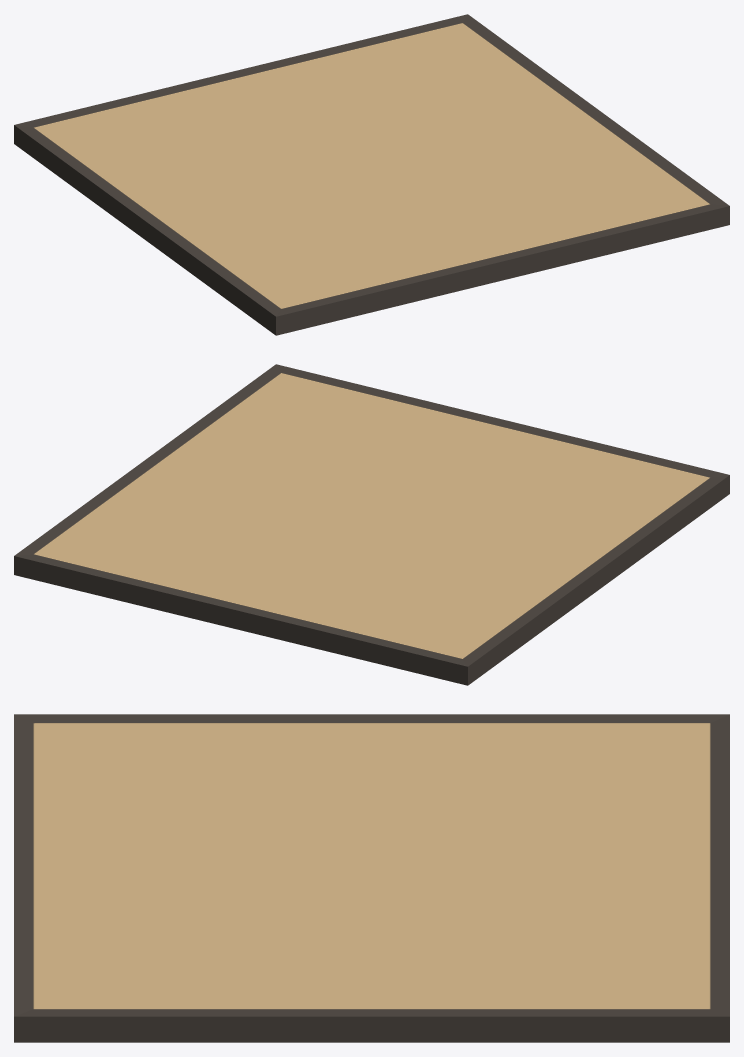
File: floor.fbx
3 views of the same model, one above another, from view 1: azimuth 30°, elevation 25°; view 2: azimuth 150°, elevation 25°; view 3: azimuth 270°, elevation 25° (orthographic). The views are drawn at different scales.
Parts seen in each view (by area): view 1: Plane; view 2: Plane; view 3: Plane.
Part boxes in pixels (x1,y1,x2,y2): Plane: (14, 14, 729, 335); Plane: (14, 364, 729, 685); Plane: (14, 714, 729, 1042).
Bounding box in the file's own units: 1 × 0.04 × 1.
Materials: 1 (1 with a texture image).
